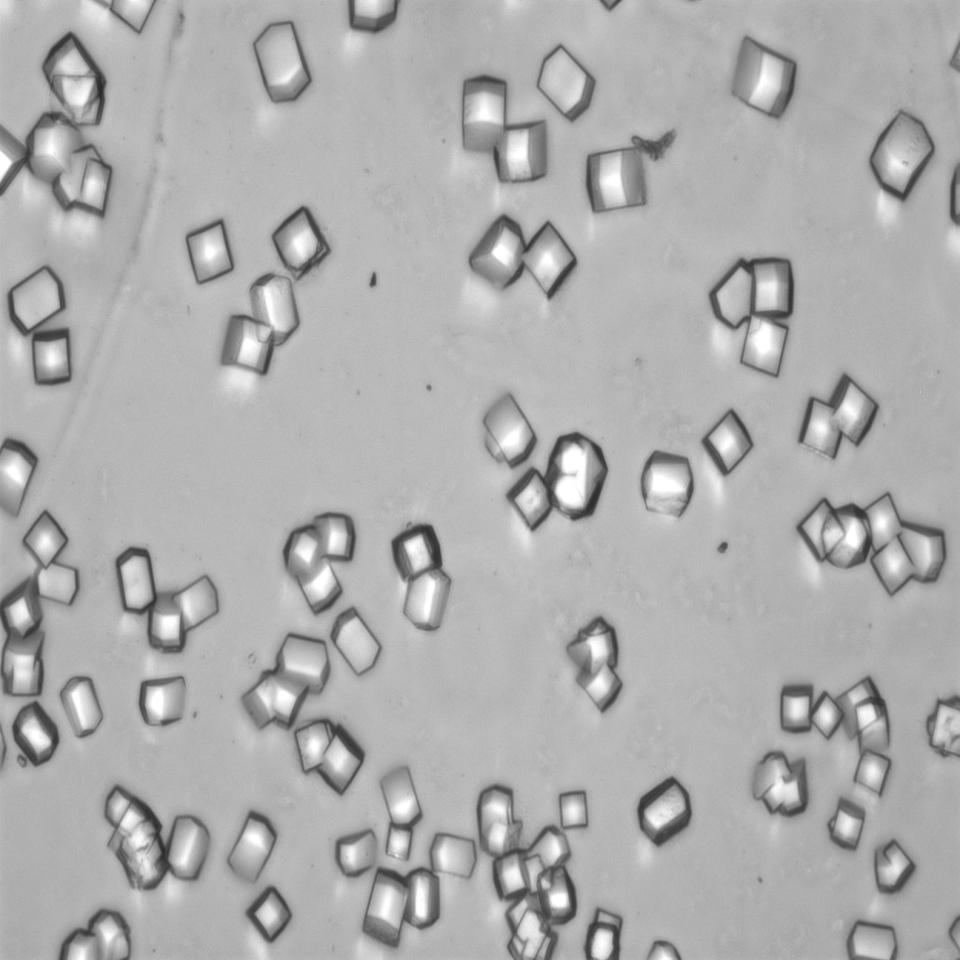crystal: (721, 33, 790, 129), (580, 142, 655, 220), (249, 15, 317, 101), (867, 106, 931, 197), (534, 41, 599, 126), (464, 209, 530, 291), (547, 426, 605, 516), (696, 401, 756, 486), (635, 446, 695, 528), (736, 301, 795, 383), (521, 219, 582, 298), (1, 262, 71, 329), (266, 205, 332, 276), (492, 117, 556, 188), (179, 214, 238, 289), (458, 71, 510, 154), (831, 371, 883, 453), (404, 570, 464, 641), (633, 774, 699, 838), (331, 603, 386, 679), (252, 269, 306, 339), (481, 392, 534, 461), (747, 250, 800, 319), (220, 310, 278, 373), (223, 807, 278, 873), (366, 863, 408, 947), (57, 673, 111, 737), (110, 542, 157, 614), (9, 699, 61, 763), (374, 755, 423, 821), (243, 881, 296, 941), (920, 687, 960, 766), (167, 805, 210, 878), (424, 830, 484, 880), (842, 906, 897, 960), (389, 524, 444, 578), (24, 328, 77, 383), (136, 668, 188, 723), (510, 464, 552, 532), (146, 590, 188, 655), (802, 399, 844, 464), (869, 827, 914, 886), (826, 790, 869, 851), (22, 507, 69, 561), (409, 862, 444, 930), (773, 678, 814, 736), (332, 830, 380, 873), (853, 742, 893, 792), (556, 787, 592, 838), (381, 823, 413, 868)
